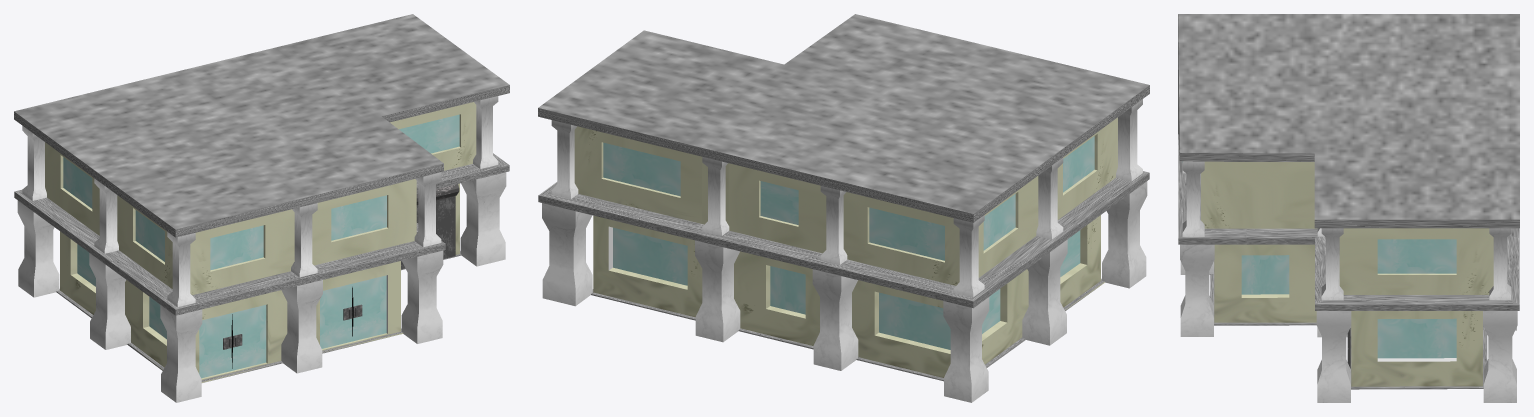
File: mansion_2.fbx
3 views of the same model, side by side, from view 1: azimuth 30°, elevation 25°; view 2: azimuth 150°, elevation 25°; view 3: azimuth 270°, elevation 25° (orthographic). The views are drawn at different scales.
Parts seen in each view (by area): view 1: Cube; view 2: Cube; view 3: Cube.
Boxes of the visible parts, bbox=[...] form: Cube: bbox=[14, 14, 509, 402]; Cube: bbox=[538, 14, 1149, 402]; Cube: bbox=[1178, 14, 1519, 402].
Bounding box in the file's own units: 1423 × 595 × 998.
Materials: 1 (1 with a texture image).
